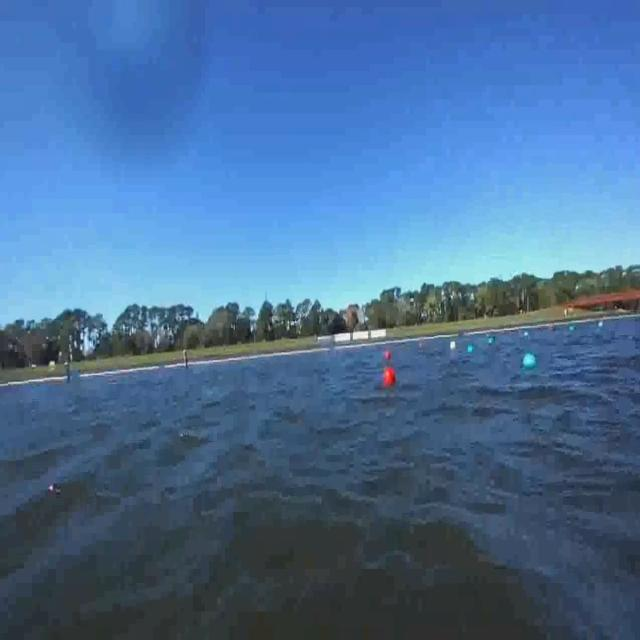green-buoy: (522, 350, 538, 370), (467, 344, 475, 356), (569, 326, 574, 342), (488, 332, 493, 345)
red-buoy: (381, 365, 395, 388), (384, 346, 392, 362)
yellow-buoy: (449, 337, 456, 354)
